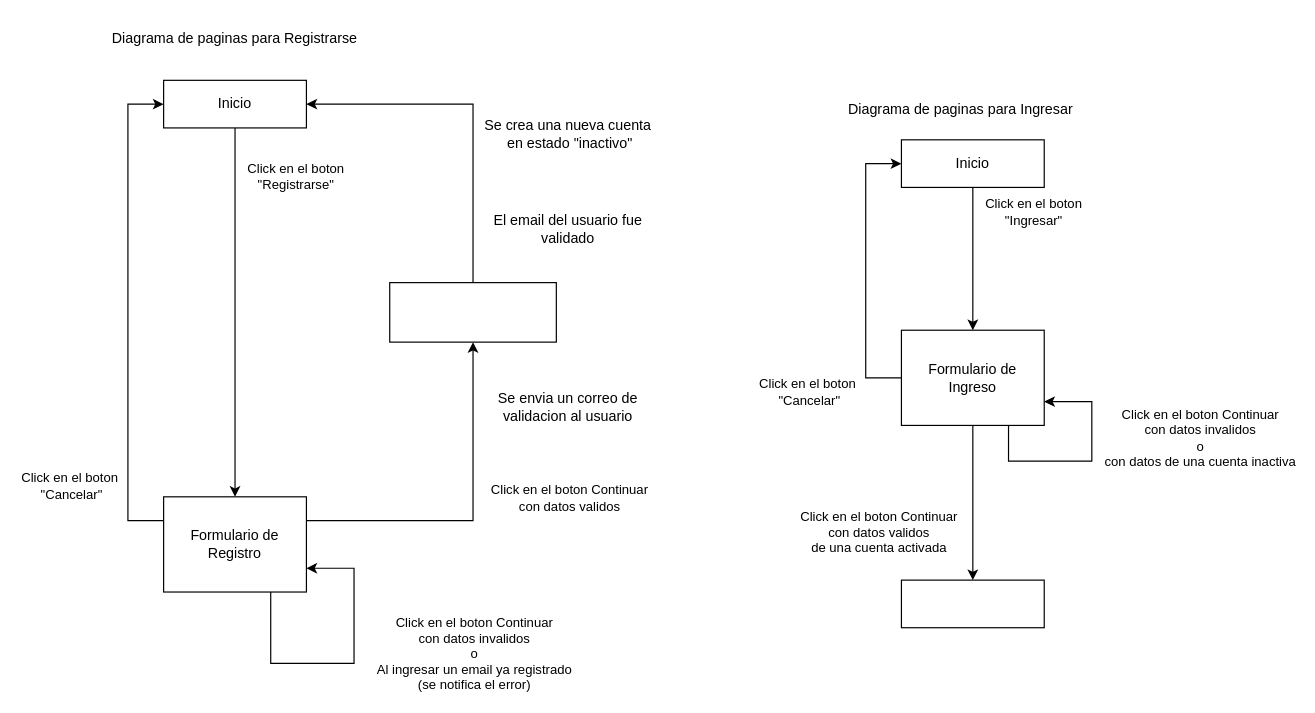
Image size: 1315x713. Some labels were removed from this diagram. Here are the shapes that lost their labels. From the top down, the box of each, then its label:
(389, 281, 556, 342): Espera de confirmacion de mail
(900, 579, 1044, 628): Dashboard de usuario
